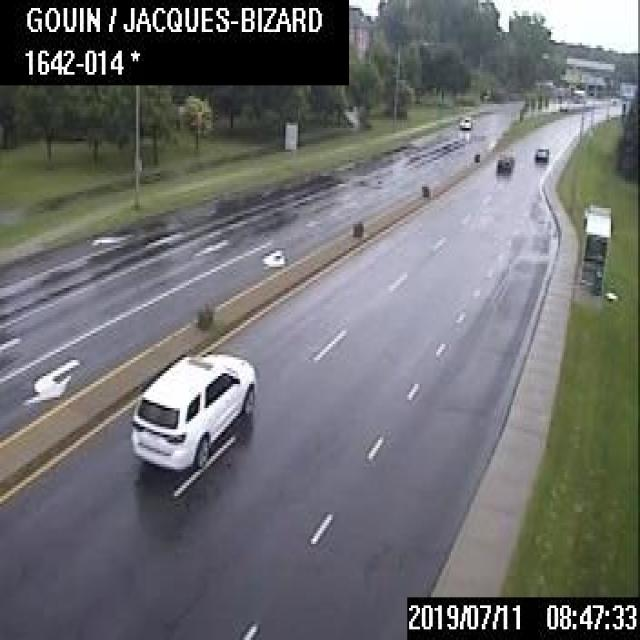vehicle: (129, 352, 254, 467), (495, 154, 512, 173), (534, 146, 548, 160), (458, 115, 470, 129)
